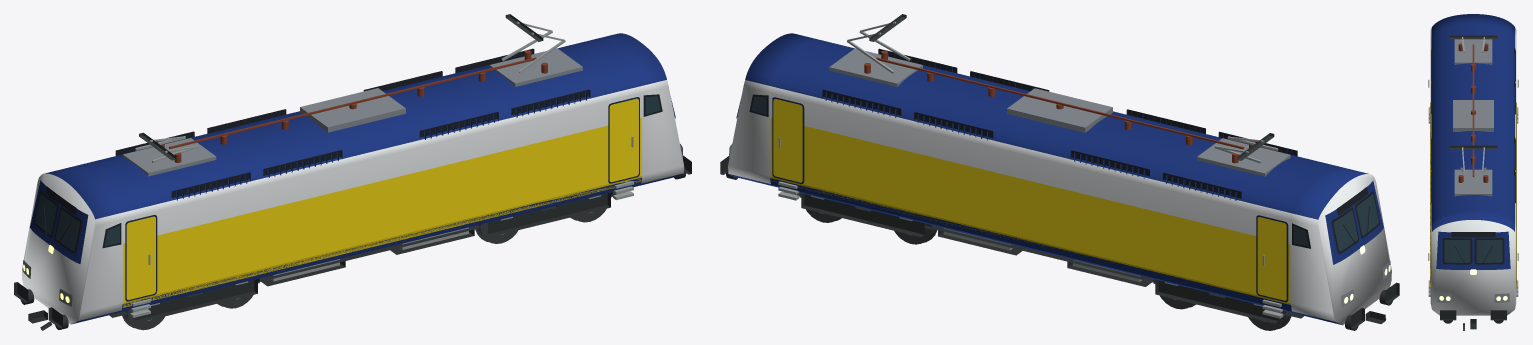
Rendered from metronom-br146.glb.
3 renders of one model, left to right at view 1: azimuth 30°, elevation 25°; view 2: azimuth 150°, elevation 25°; view 3: azimuth 270°, elevation 25°, orthographic. The views are drawn at different scales.
Visible parts, largest first — view 1: br146_continuous_shell, br146_yellow_sweep_-1, br146_blue_sill_-1, br146_roof_transformer, br146_door_leaf_-1_-1, br146_door_leaf_-1_1, br146_bogie_1_sideframe_-1, br146_pantograph_raised_base, br146_bogie_0_sideframe_-1, br146_pantograph_folded_base, br146_high_voltage_bus, br146_front_blue_visor_-1 (+10 smaller); view 2: br146_continuous_shell, br146_yellow_sweep_1, br146_blue_sill_1, br146_roof_transformer, br146_bogie_1, br146_bogie_0, br146_door_leaf_1_1, br146_door_leaf_1_-1, br146_pantograph_raised_base, br146_pantograph_folded_base, br146_high_voltage_bus, br146_front_blue_visor_-1 (+10 smaller); view 3: br146_continuous_shell, br146_roof_transformer, br146_front_blue_visor_1, br146_pantograph_raised_base, br146_pantograph_folded_base, br146_windscreen_glass_1_1, br146_windscreen_glass_1_-1, br146_high_voltage_bus, br146_destination_1, br146_windscreen_seal_1_1, br146_windscreen_seal_1_-1, br146_pantograph_raised_collector (+7 smaller).
Part boxes in pixels (x1,y1,x2,y2): br146_continuous_shell: (22, 33, 683, 324); br146_yellow_sweep_-1: (123, 117, 641, 307); br146_blue_sill_-1: (120, 177, 641, 311); br146_roof_transformer: (300, 88, 405, 132); br146_door_leaf_-1_-1: (126, 216, 155, 299); br146_door_leaf_-1_1: (609, 98, 638, 182); br146_bogie_1_sideframe_-1: (488, 193, 610, 236); br146_pantograph_raised_base: (489, 48, 582, 86); br146_bogie_0_sideframe_-1: (135, 279, 257, 322); br146_pantograph_folded_base: (123, 138, 216, 176); br146_high_voltage_bus: (169, 57, 536, 148); br146_front_blue_visor_-1: (30, 180, 88, 263); br146_continuous_shell: (728, 33, 1391, 325); br146_yellow_sweep_1: (770, 118, 1290, 304); br146_blue_sill_1: (770, 178, 1292, 312); br146_roof_transformer: (1007, 88, 1112, 132); br146_bogie_1: (801, 193, 937, 244); br146_bogie_0: (1155, 279, 1291, 330); br146_door_leaf_1_1: (773, 99, 802, 182); br146_door_leaf_1_-1: (1257, 217, 1286, 300); br146_pantograph_raised_base: (829, 48, 922, 86); br146_pantograph_folded_base: (1197, 138, 1290, 176); br146_high_voltage_bus: (876, 57, 1244, 149); br146_front_blue_visor_-1: (1325, 180, 1383, 264); br146_continuous_shell: (1430, 14, 1516, 315); br146_roof_transformer: (1453, 100, 1493, 131); br146_front_blue_visor_1: (1436, 231, 1510, 269); br146_pantograph_raised_base: (1454, 169, 1492, 196); br146_pantograph_folded_base: (1454, 39, 1492, 64); br146_windscreen_glass_1_1: (1476, 239, 1502, 262); br146_windscreen_glass_1_-1: (1444, 239, 1470, 262); br146_high_voltage_bus: (1472, 44, 1474, 176); br146_destination_1: (1451, 232, 1495, 237); br146_windscreen_seal_1_1: (1474, 238, 1504, 264); br146_windscreen_seal_1_-1: (1442, 238, 1472, 264); br146_pantograph_raised_collector: (1449, 145, 1497, 149).
Bounding box in the file's own units: 19 × 5.54 × 3.13.
